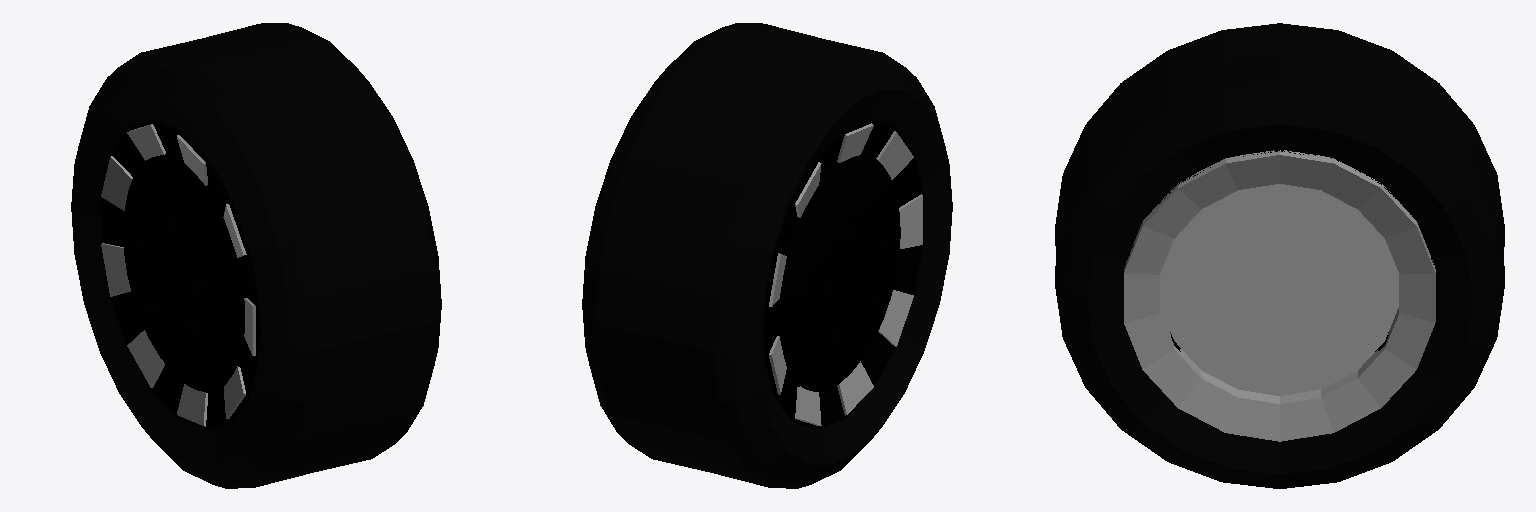
File: Llanta3.obj
3 views of the same model, side by side, from view 1: azimuth 30°, elevation 25°; view 2: azimuth 150°, elevation 25°; view 3: azimuth 270°, elevation 25° (orthographic).
Visible parts, largest first — view 1: Llanta3; view 2: Llanta3; view 3: Llanta3.
Part boxes in pixels (left/top/right/bottom): Llanta3: left=71, top=23, right=441, bottom=488; Llanta3: left=582, top=23, right=952, bottom=488; Llanta3: left=1055, top=23, right=1504, bottom=488.
Size of the model in its own units: 2.2 by 4.8 by 4.8.